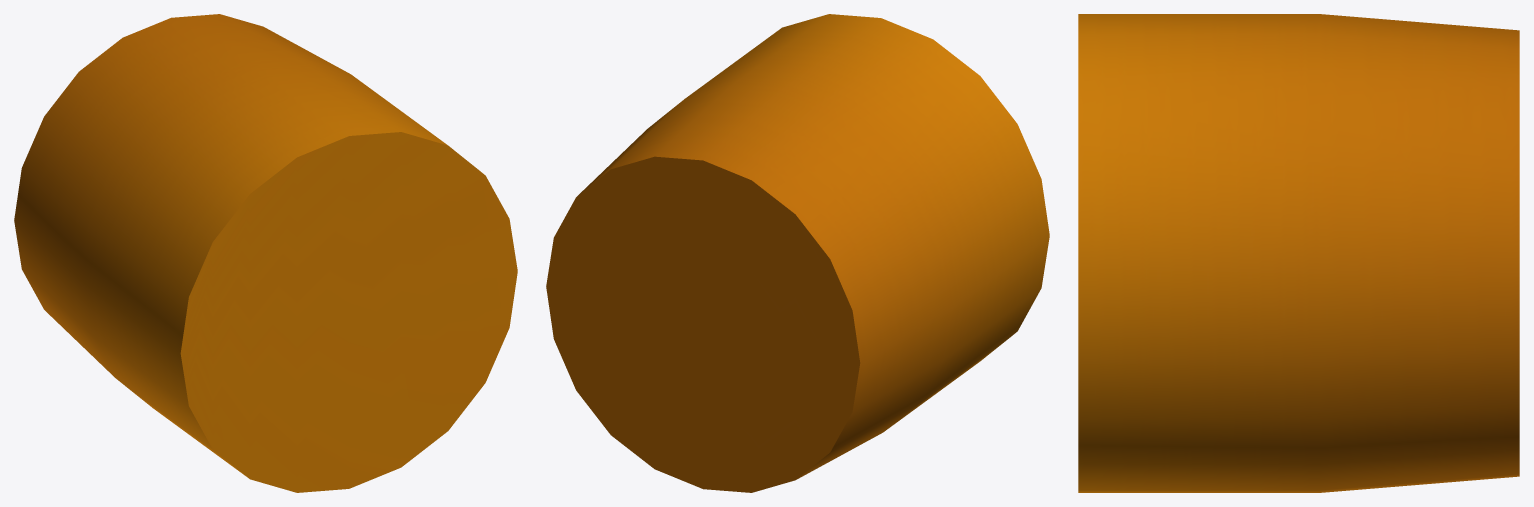
File: carrot1_slices_2.fbx
3 renders of one model, left to right at view 1: azimuth 30°, elevation 25°; view 2: azimuth 150°, elevation 25°; view 3: azimuth 270°, elevation 25°, orthographic. The views are drawn at different scales.
Parts seen in each view (by area): view 1: carrot1_slices.002; view 2: carrot1_slices.002; view 3: carrot1_slices.002.
Part boxes in pixels (left/top/right/bottom): carrot1_slices.002: left=14, top=14, right=517, bottom=492; carrot1_slices.002: left=546, top=14, right=1049, bottom=492; carrot1_slices.002: left=1078, top=14, right=1519, bottom=492.
Bounding box in the file's own units: 89.92 × 89.92 × 82.23.
